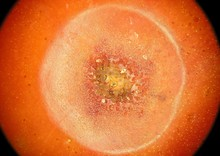damaged_tomato: (4, 1, 218, 156)
